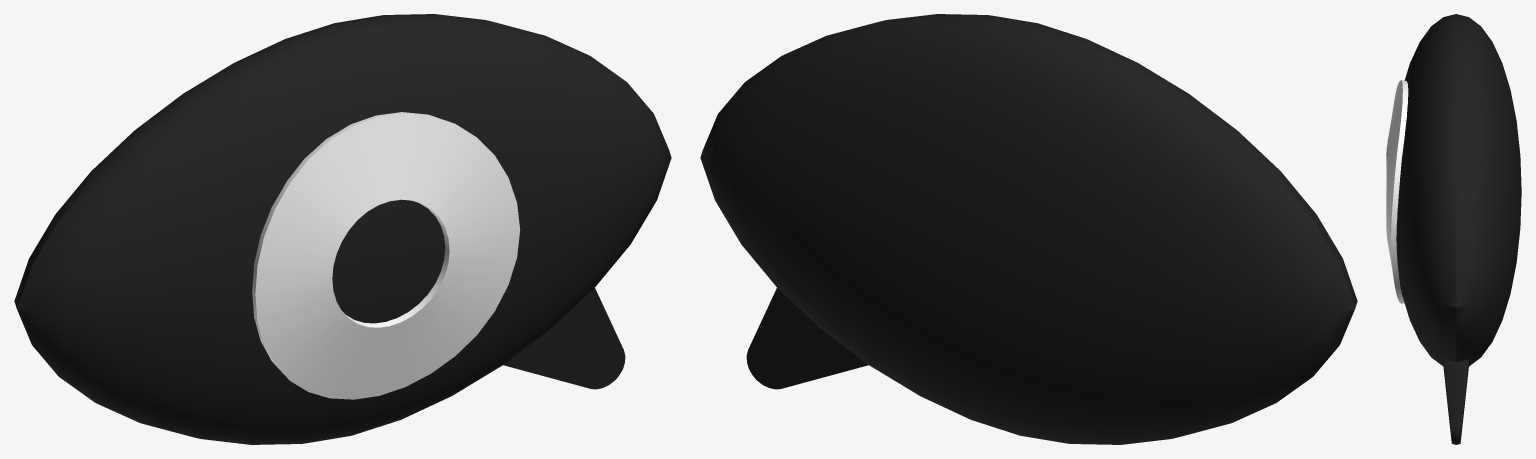
The model's file is eye_in_speech_bubble.glb.
3 views of the same model, side by side, from view 1: azimuth 30°, elevation 25°; view 2: azimuth 150°, elevation 25°; view 3: azimuth 270°, elevation 25° (orthographic). The views are drawn at different scales.
Parts seen in each view (by area): view 1: Sphere.003; view 2: Sphere.003; view 3: Sphere.003.
Boxes of the visible parts, <box> form: Sphere.003: <box>14,14,671,444</box>; Sphere.003: <box>700,14,1357,444</box>; Sphere.003: <box>1386,14,1521,444</box>.
Bounding box in the file's own units: 2.01 × 1.25 × 0.496.
Materials: 1 (1 with a texture image).
